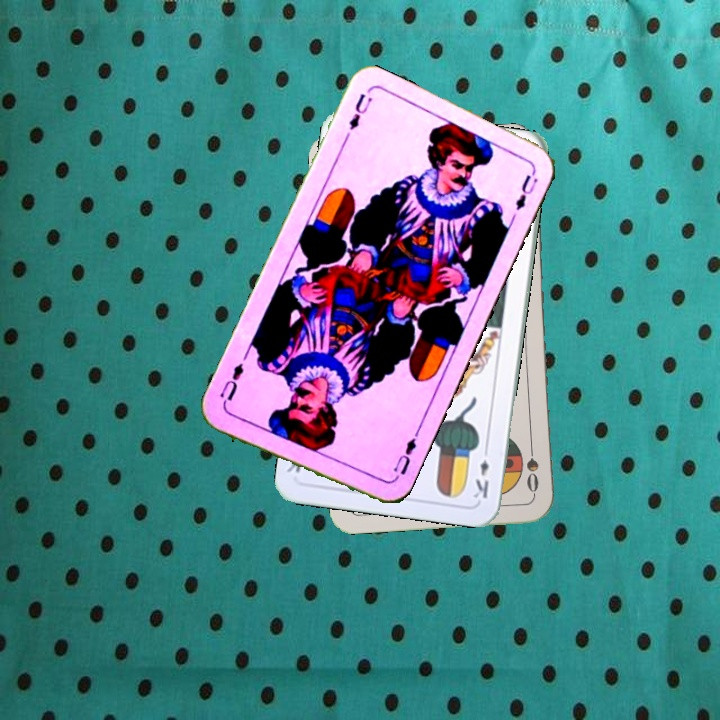EK: (470, 442, 491, 501)
EU: (389, 431, 420, 478), (344, 89, 375, 133)
SO: (523, 438, 541, 497)
